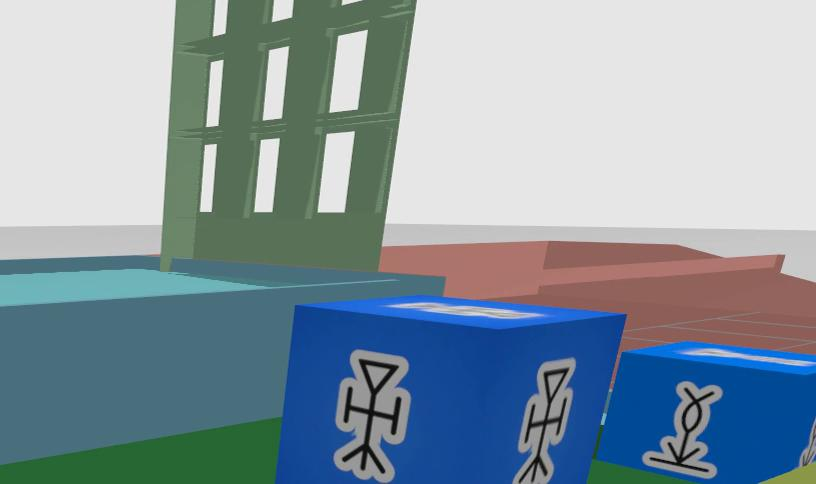KFS_REAL: (276, 295, 622, 484), (597, 342, 815, 484), (335, 351, 410, 480), (512, 360, 575, 484), (642, 381, 722, 478)
